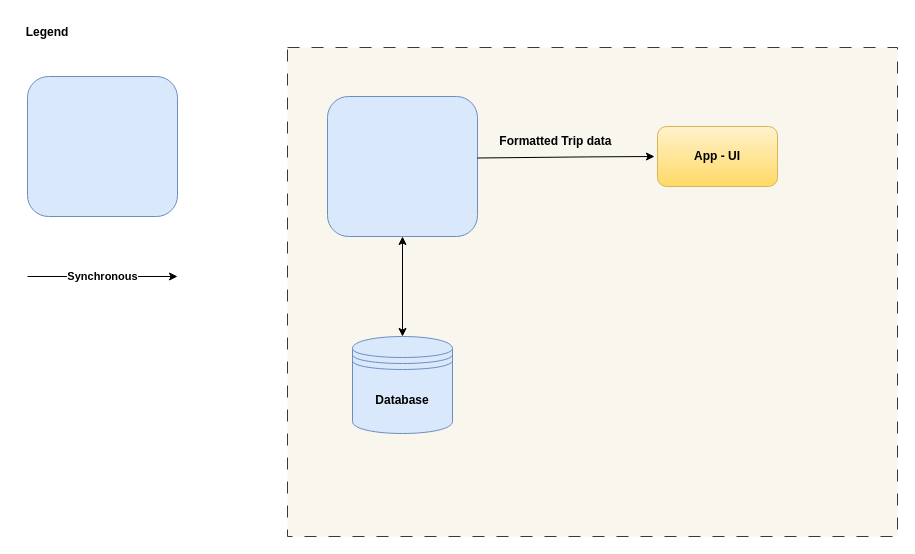
This 915x554 diagram has some shape labels left out. Here are the shapes that lost their labels. From the top down, the centre of each, then its label:
(102,146): Service RESTAPI
(402,166): TripDashboard - Service Build dataset for further consumption
